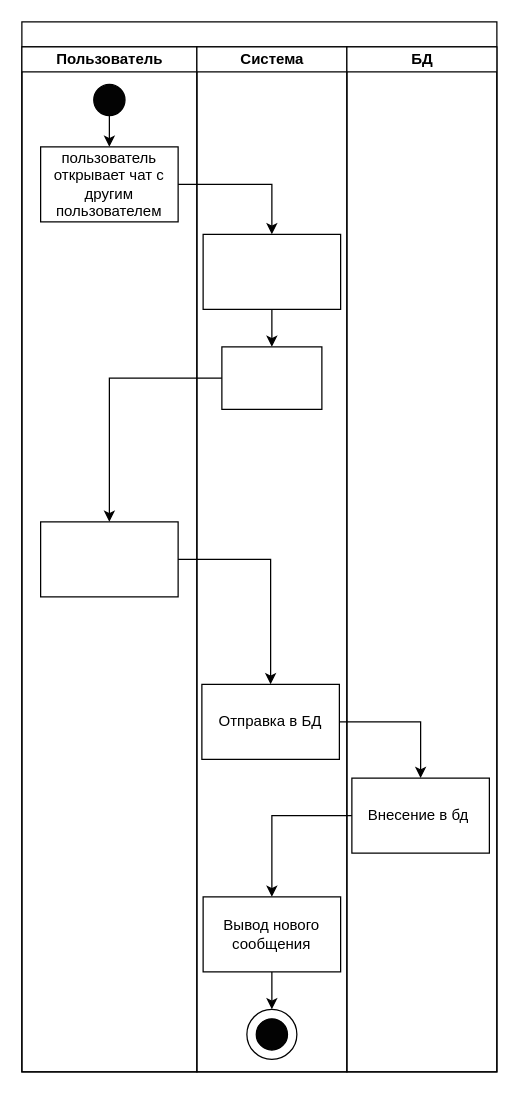
This 519x1094 diagram has some shape labels left out. The shapes that lost their labels are listed below. From the top down, each one's box as (x1, y1, x2, y2) in pixels, then its label:
(202, 233, 341, 309): вывод страницы с чатом
(221, 346, 322, 409): Загрузка и показ сообщений
(39, 521, 178, 597): Ввод сообщения для другого пользователя
